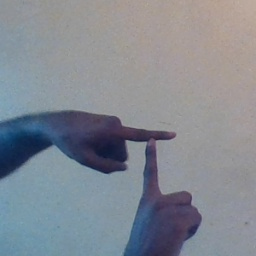T: (102, 115, 199, 220)
